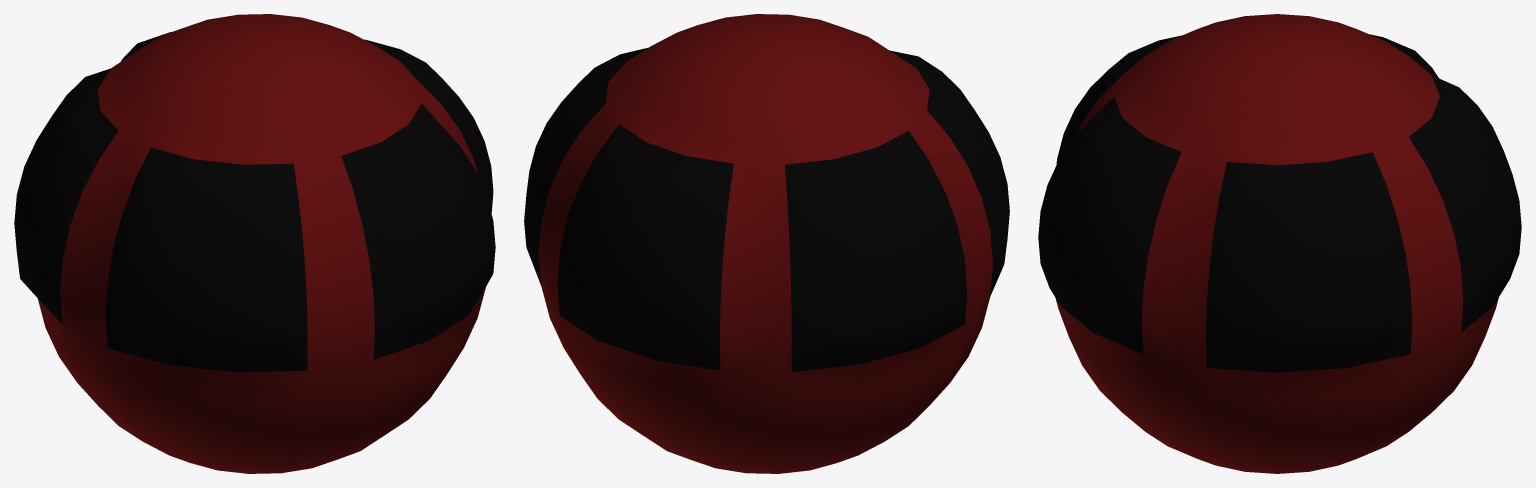
File: nueva bola.fbx
The picture shows the model from 3 angles, left to right: view 1: azimuth 30°, elevation 25°; view 2: azimuth 150°, elevation 25°; view 3: azimuth 270°, elevation 25°; orthographic projection.
Parts seen in each view (by area): view 1: pSphere1 (×2); view 2: pSphere1 (×2); view 3: pSphere1 (×2).
Part boxes in pixels (x1,y1,x2,y2): pSphere1 (×2): (14,14,495,473); pSphere1 (×2): (524,14,1009,473); pSphere1 (×2): (1038,14,1521,473).
Size of the model in its own units: 2.13 by 2 by 2.1.
